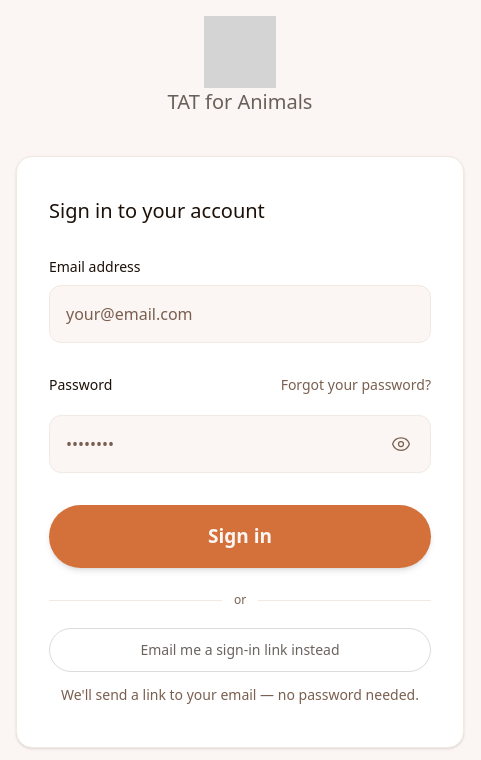
Test case: LoginClient — login error › shows a specific message when the email is not yet confirmed
Type "user@email.com" into the field labelled "Email address". click: (240, 314)
box: 49,285 -> 431,343
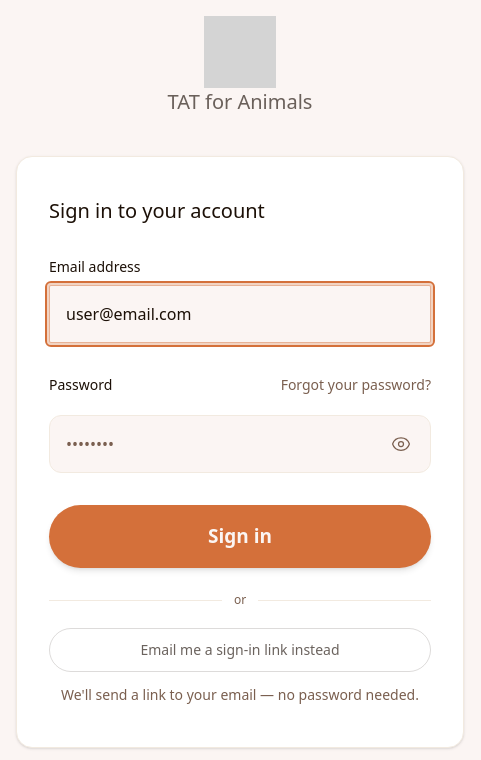
Type "somepass" into the password field labelled "Password". click: (240, 444)
box: 49,415 -> 431,473
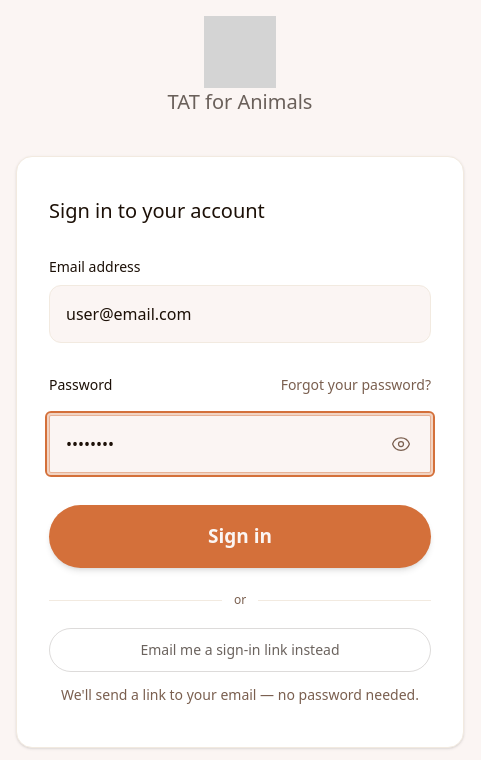
Click the button "Sign in". click: (240, 537)
box: 49,505 -> 431,568
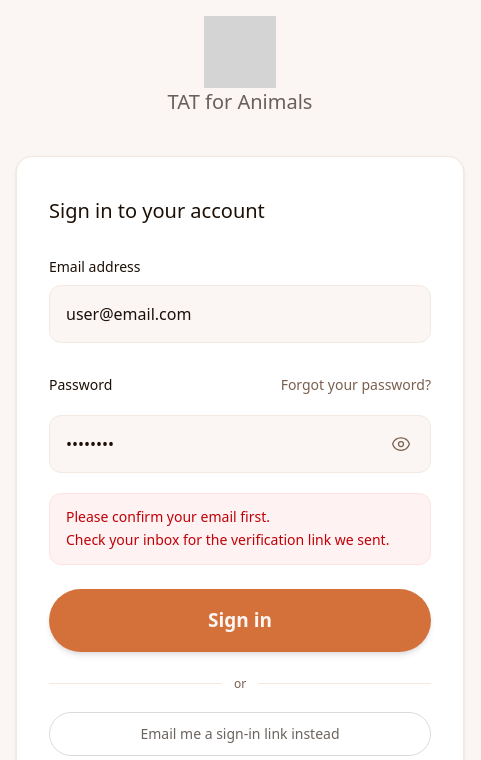
expect the text "confirm your email first" is shown: met, box 66,507 -> 389,549
